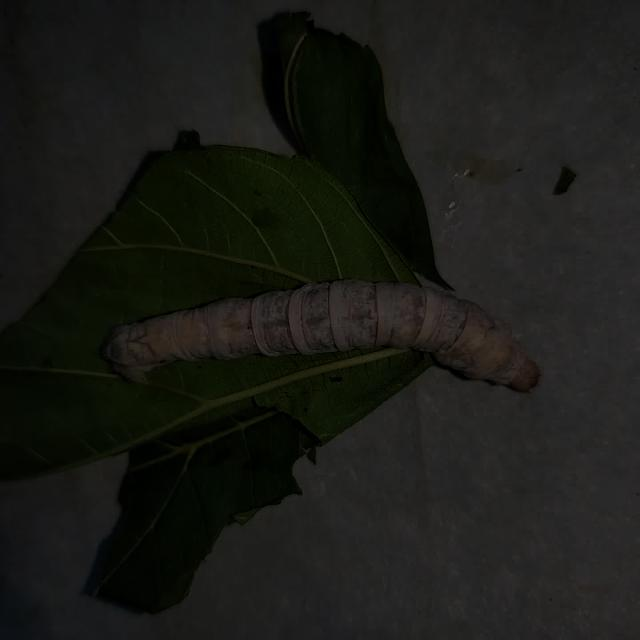Grasserie: (86, 252, 554, 441)
